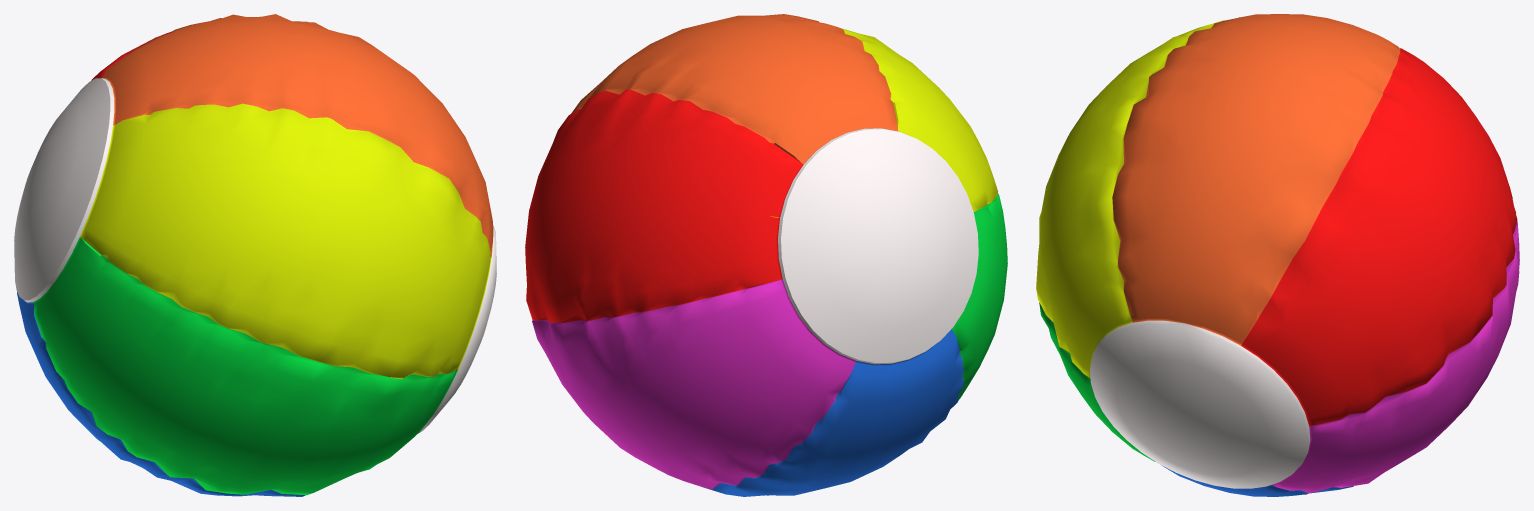
Rendered from Balon.FBX.
3 renders of one model, left to right at view 1: azimuth 30°, elevation 25°; view 2: azimuth 150°, elevation 25°; view 3: azimuth 270°, elevation 25°, orthographic.
Parts seen in each view (by area): view 1: Sphere05; view 2: Sphere05; view 3: Sphere05.
Boxes of the visible parts, bbox=[...] form: Sphere05: bbox=[14, 14, 496, 496]; Sphere05: bbox=[525, 14, 1007, 496]; Sphere05: bbox=[1036, 14, 1519, 496].
Size of the model in its own units: 17.86 by 17.87 by 17.88.
